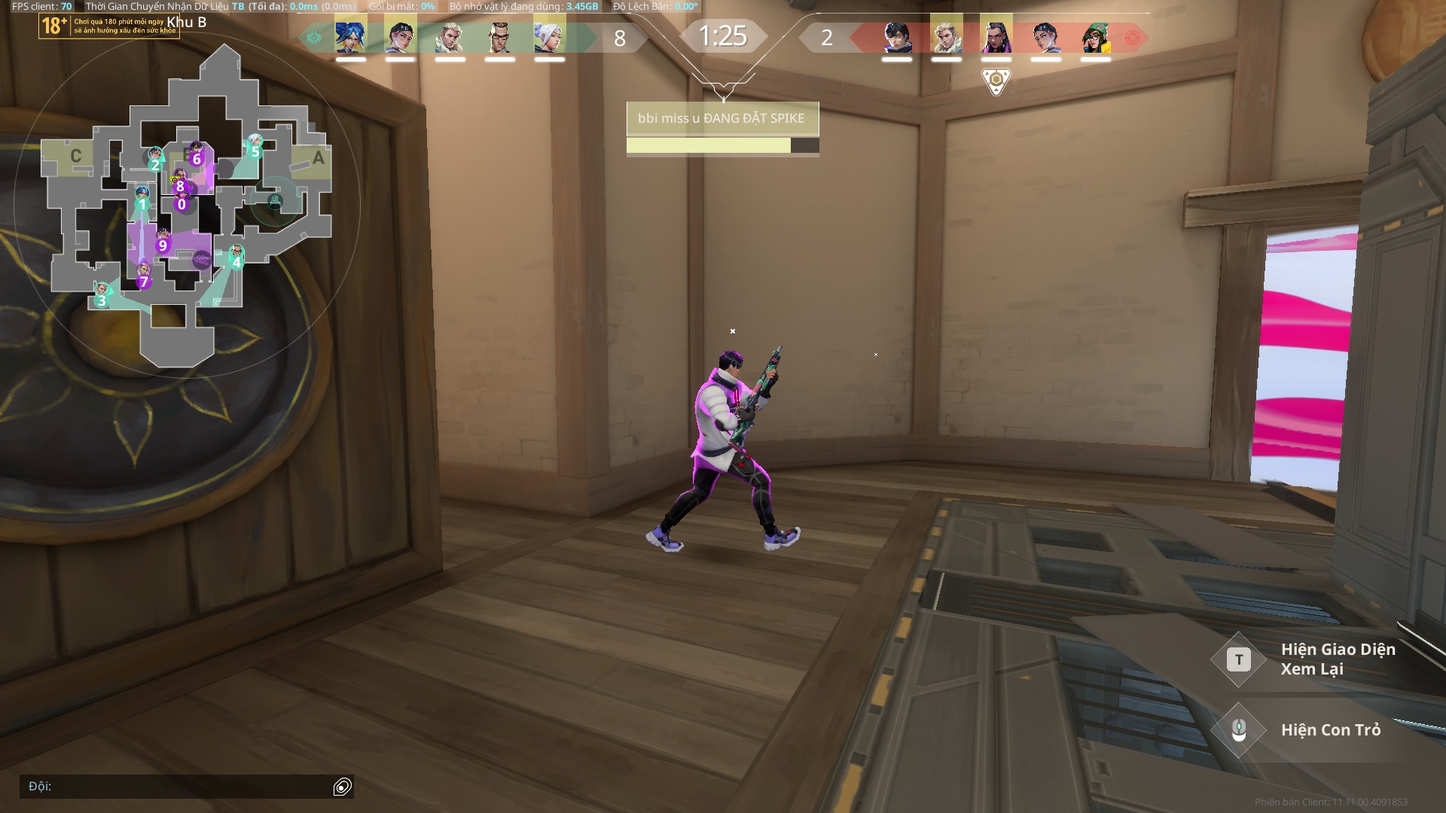body: (694, 372, 746, 436)
head: (717, 347, 743, 376)
